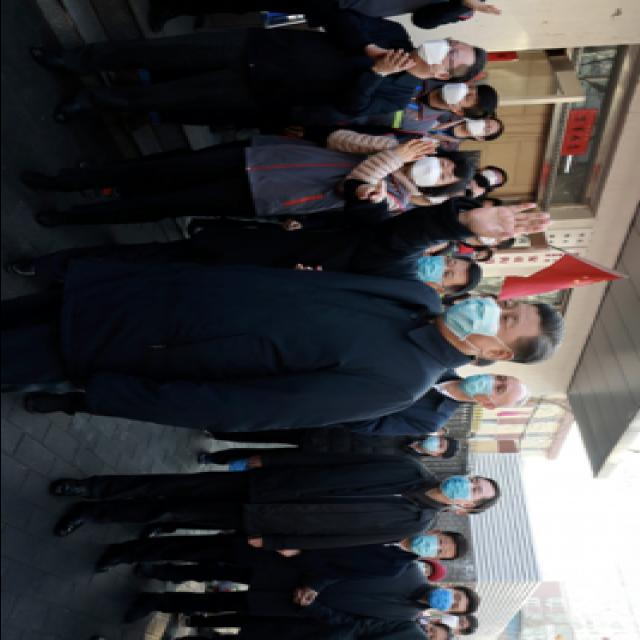mask: (441, 298, 525, 350), (460, 373, 516, 400), (414, 38, 462, 68), (410, 156, 456, 186), (417, 253, 463, 283), (438, 474, 486, 501), (427, 588, 467, 612), (441, 82, 479, 105), (410, 534, 448, 557), (465, 117, 496, 136), (419, 436, 448, 454), (438, 614, 469, 628), (477, 170, 501, 188)
